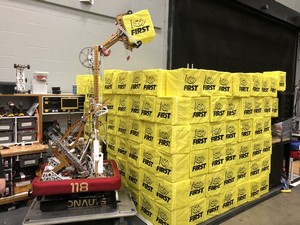cube: (120, 13, 157, 42), (153, 178, 191, 206), (157, 125, 192, 154), (154, 152, 190, 180), (166, 71, 202, 97), (160, 99, 190, 125), (156, 203, 189, 225), (141, 70, 166, 97), (263, 69, 287, 93), (182, 205, 210, 225), (186, 176, 207, 202), (137, 96, 159, 120), (138, 193, 156, 222), (232, 72, 252, 97), (141, 140, 156, 173), (189, 127, 211, 149), (191, 98, 210, 123), (101, 69, 120, 92), (190, 151, 209, 174), (210, 97, 226, 122), (141, 169, 157, 194), (144, 122, 158, 146), (227, 98, 242, 120), (118, 72, 131, 95), (131, 70, 143, 93), (242, 97, 254, 118), (254, 97, 264, 117)
